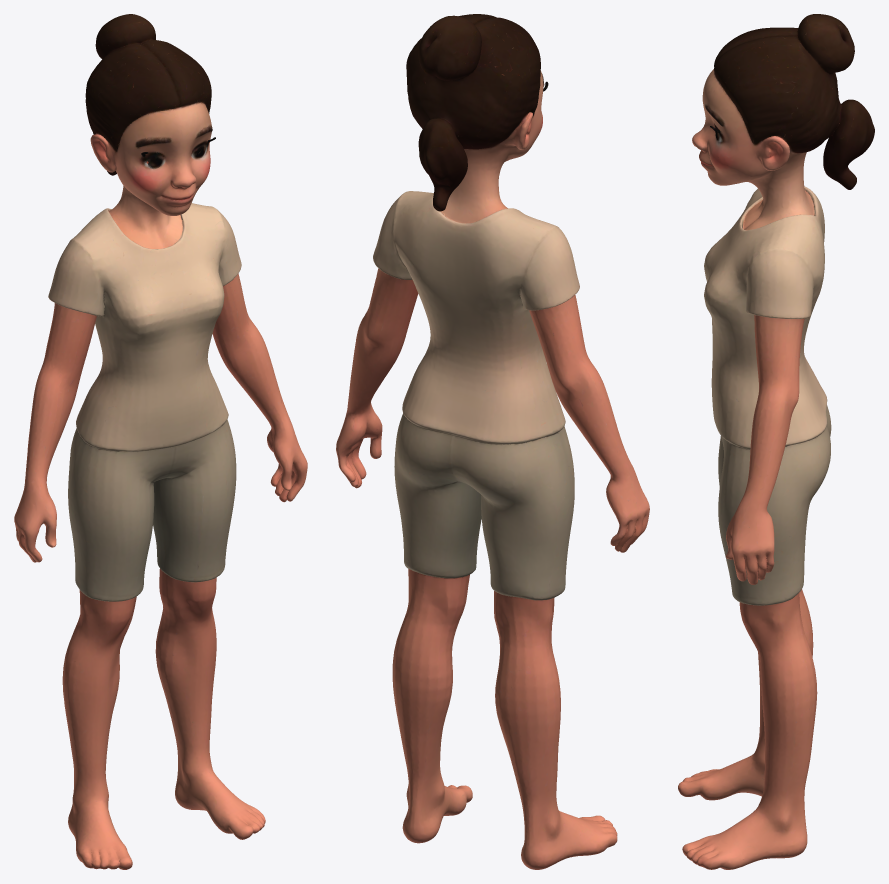
The model's file is corpo-feminino.glb.
The picture shows the model from 3 angles, left to right: view 1: azimuth 30°, elevation 25°; view 2: azimuth 150°, elevation 25°; view 3: azimuth 270°, elevation 25°; orthographic projection. The views are drawn at different scales.
Visible parts, largest first — view 1: world; view 2: world; view 3: world.
Boxes of the visible parts, left/top/right/bottom form: world: left=14, top=14, right=307, bottom=869; world: left=336, top=14, right=649, bottom=869; world: left=678, top=14, right=874, bottom=869.
Bounding box in the file's own units: 0.3758 × 1 × 0.2193.
1 material, 1 textured.
